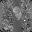people: (13, 6, 22, 21)
